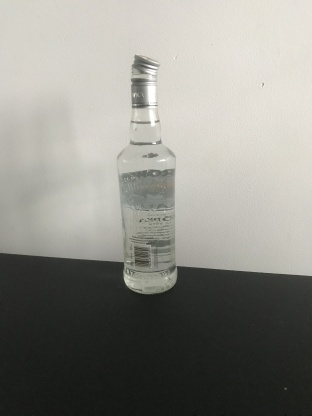nakretka: (129, 52, 161, 109)
